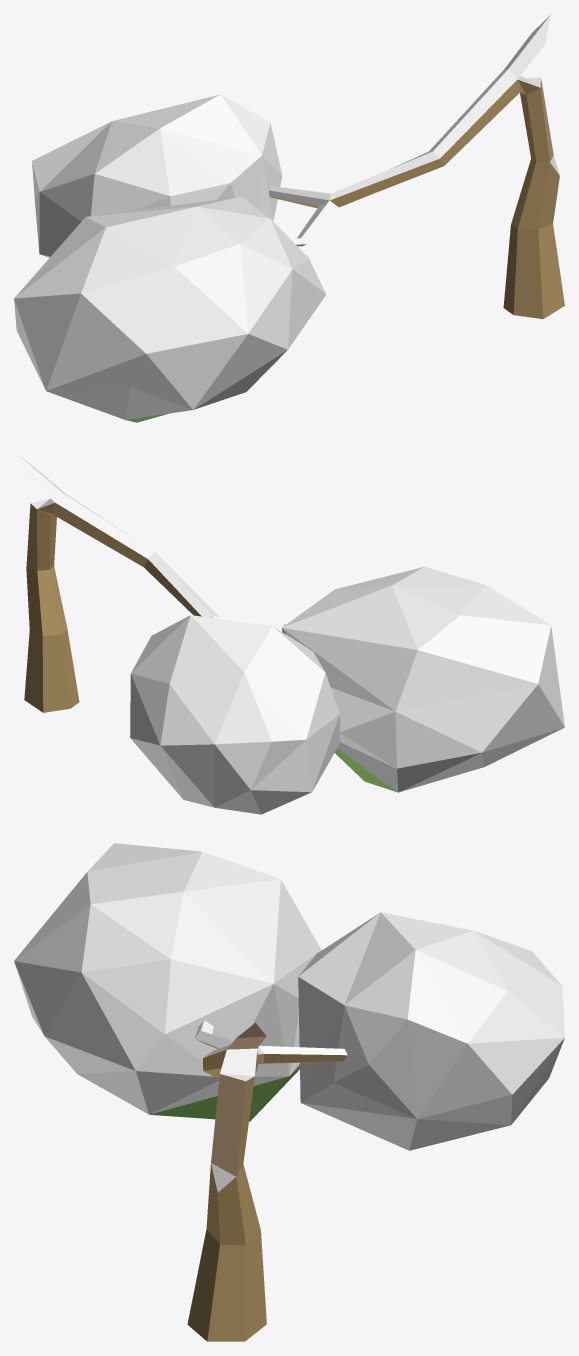
The model's file is Oak_Tree_crk_m_Snow_BT_04.fbx.
3 renders of one model, top to bottom at view 1: azimuth 30°, elevation 25°; view 2: azimuth 150°, elevation 25°; view 3: azimuth 270°, elevation 25°, orthographic. The views are drawn at different scales.
Visible parts, largest first — view 1: Oak_Tree_crk_m_Snow_BT_04; view 2: Oak_Tree_crk_m_Snow_BT_04; view 3: Oak_Tree_crk_m_Snow_BT_04.
Part boxes in pixels (x1,y1,x2,y2): Oak_Tree_crk_m_Snow_BT_04: (14, 14, 564, 422); Oak_Tree_crk_m_Snow_BT_04: (14, 451, 564, 814); Oak_Tree_crk_m_Snow_BT_04: (14, 843, 564, 1341).
Bounding box in the file's own units: 572 × 270 × 418.
